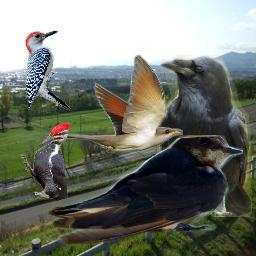Crow: (157, 55, 252, 217)
Cuckoo: (45, 55, 183, 151)
Swallow: (47, 135, 243, 245)
Woodpecker: (21, 27, 75, 117), (19, 123, 70, 201)
